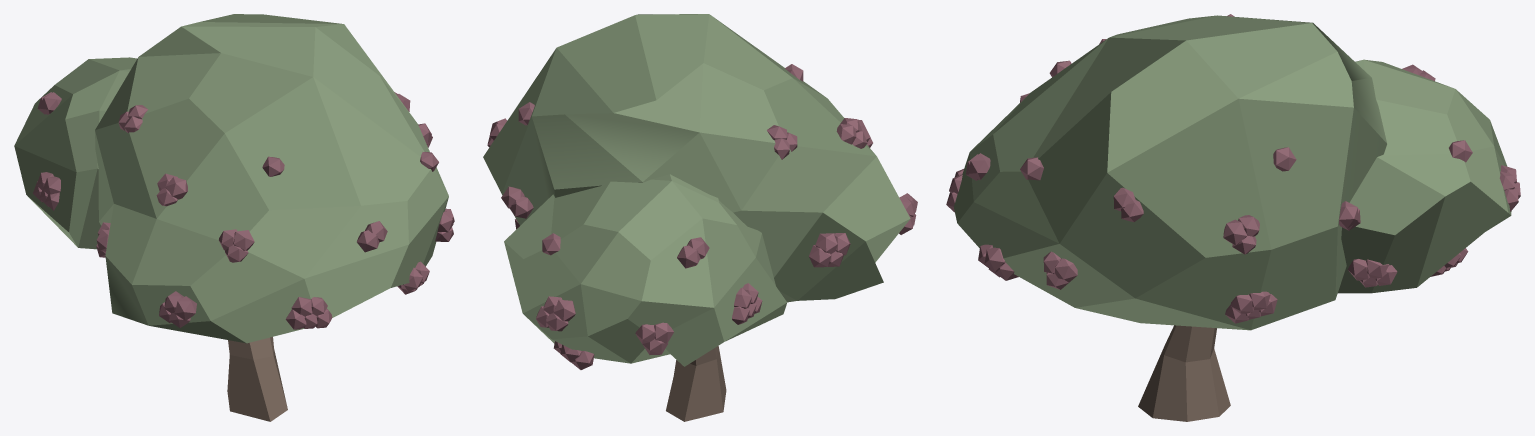
The model's file is BerryBush3.fbx.
3 renders of one model, left to right at view 1: azimuth 30°, elevation 25°; view 2: azimuth 150°, elevation 25°; view 3: azimuth 270°, elevation 25°, orthographic. The views are drawn at different scales.
Visible parts, largest first — view 1: Berry_Shrub; view 2: Berry_Shrub; view 3: Berry_Shrub.
Boxes of the visible parts, left/top/right/bottom form: Berry_Shrub: left=14, top=14, right=454, bottom=421; Berry_Shrub: left=483, top=14, right=917, bottom=421; Berry_Shrub: left=946, top=14, right=1520, bottom=421.
Size of the model in its own units: 7.05 by 7.17 by 9.26.
